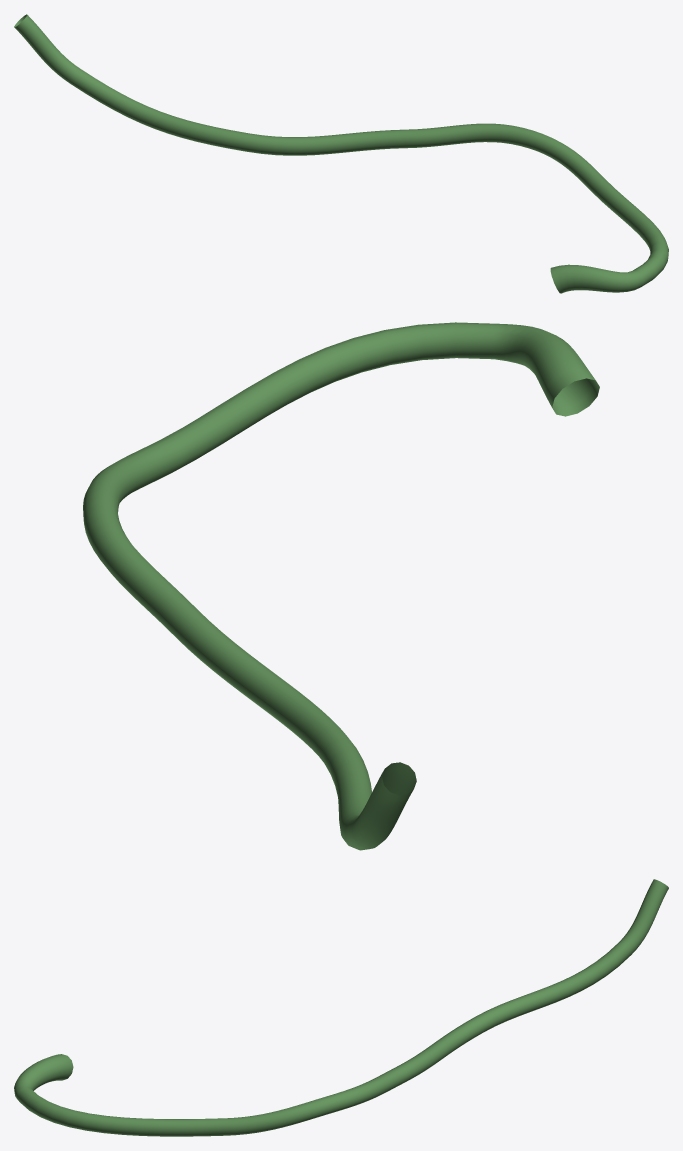
3 renders of one model, top to bottom at view 1: azimuth 30°, elevation 25°; view 2: azimuth 150°, elevation 25°; view 3: azimuth 270°, elevation 25°, orthographic. The views are drawn at different scales.
Visible parts, largest first — view 1: 胆总管; view 2: 胆总管; view 3: 胆总管.
Part boxes in pixels (x1,y1,x2,y2): 胆总管: (14,14,668,293); 胆总管: (83,322,599,850); 胆总管: (14,879,668,1136).
Bounding box in the file's own units: 0.0667 × 0.0176 × 0.1082.
